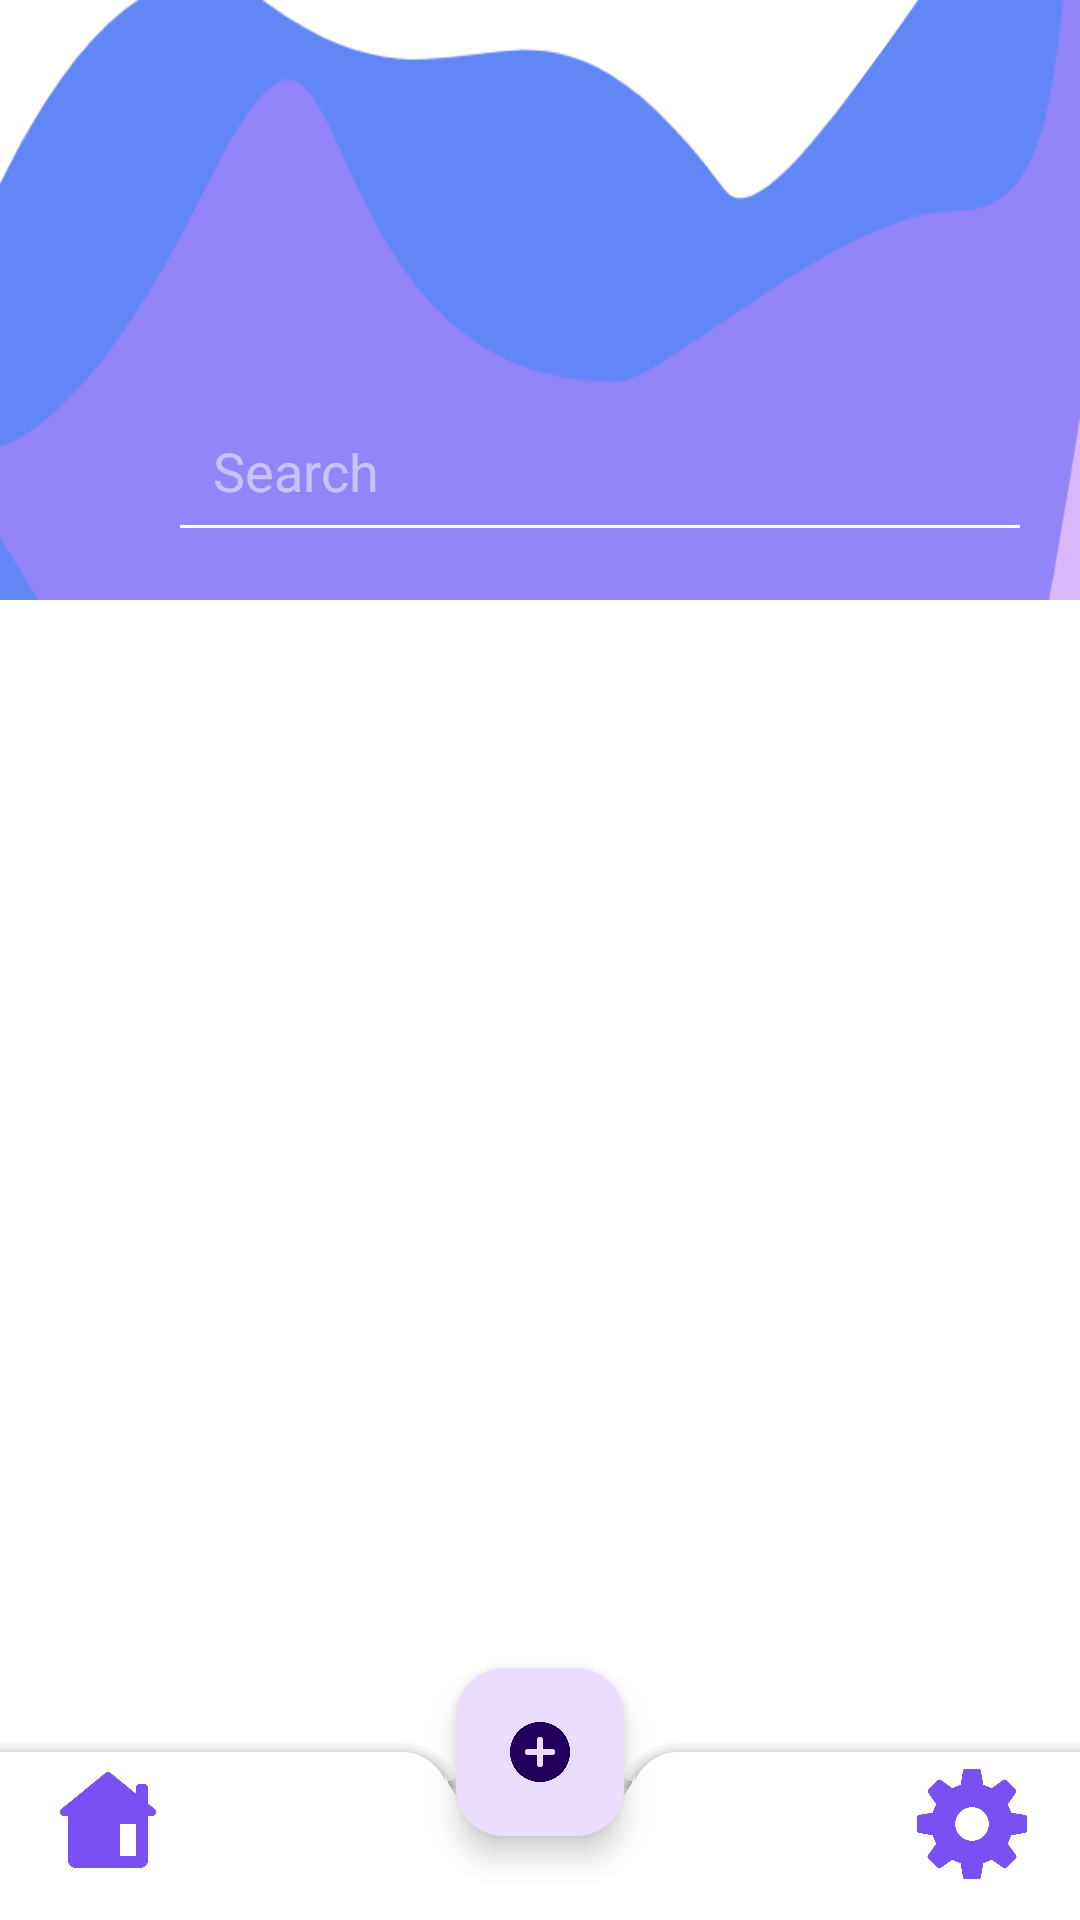

Named icons in this screenshot (1080 x 1920) and their centers, point (x, y):
homeicon: point (108, 1820)
plusbutton: point (540, 1752)
